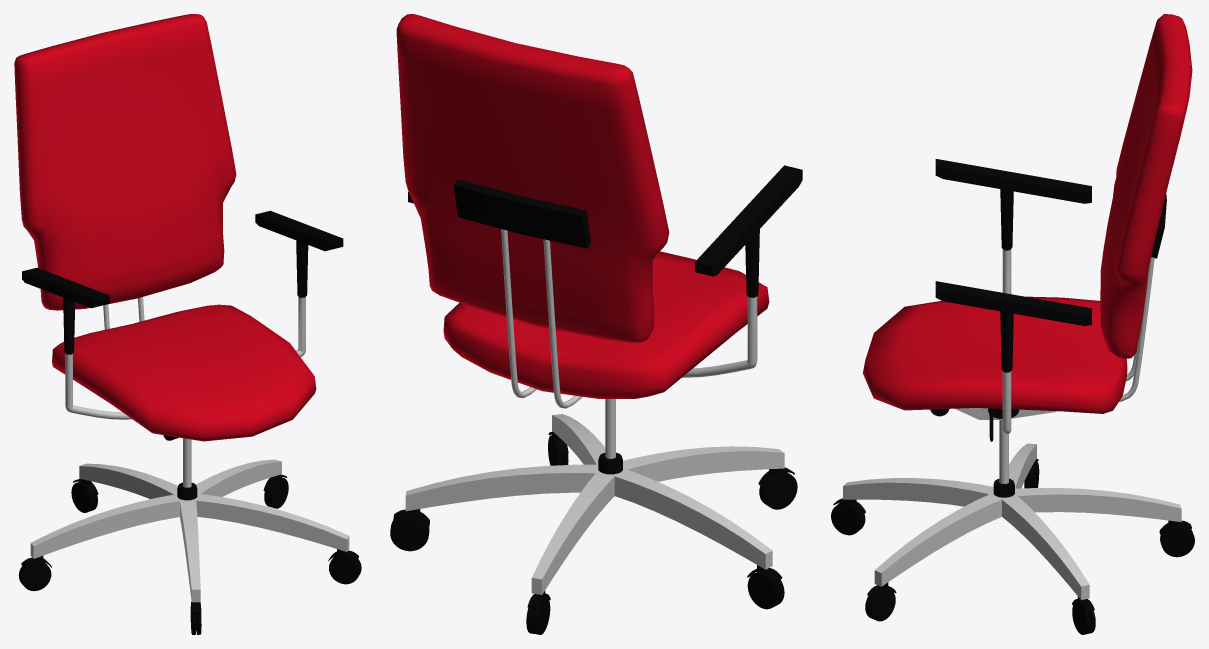
Rendered from IKEA-Klappe_Chair-3D.obj.
3 views of the same model, side by side, from view 1: azimuth 30°, elevation 25°; view 2: azimuth 150°, elevation 25°; view 3: azimuth 270°, elevation 25° (orthographic). The views are drawn at different scales.
Parts seen in each view (by area): view 1: Box02; view 2: Box02; view 3: Box02.
Part boxes in pixels (x1,y1,x2,y2): Box02: [14, 14, 361, 634]; Box02: [390, 14, 802, 634]; Box02: [831, 14, 1194, 634].
Size of the model in its own units: 52.34 by 80.41 by 52.34.
